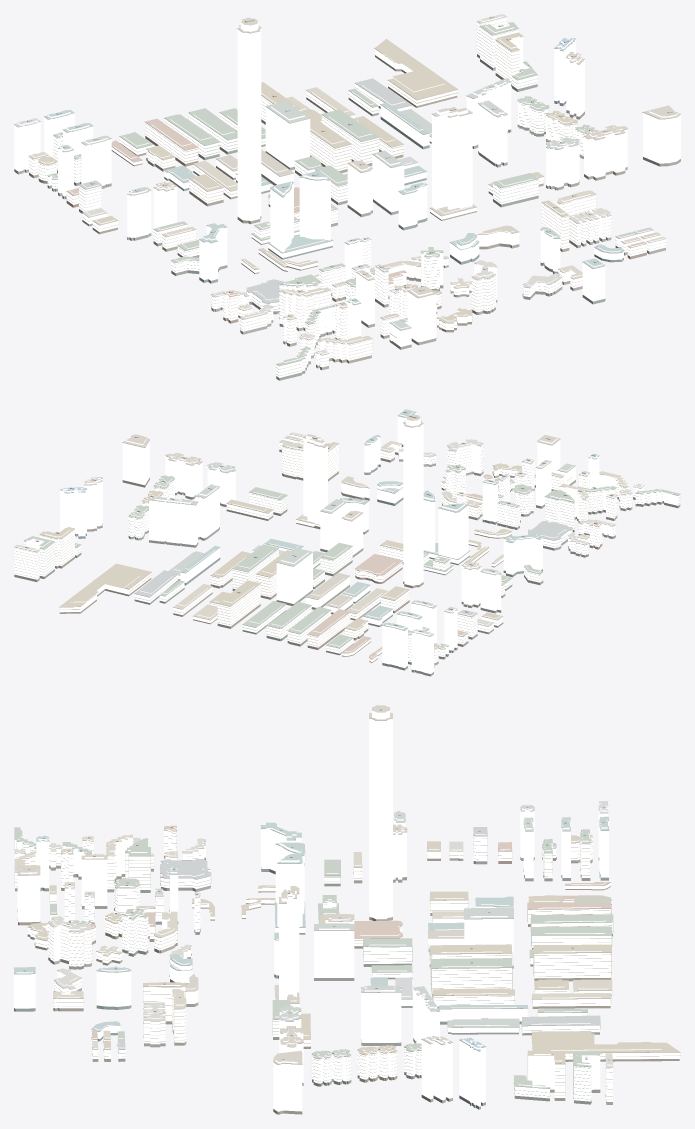
Rendered from buildings-7_2-fine.glb.
3 views of the same model, one above another, from view 1: azimuth 30°, elevation 25°; view 2: azimuth 150°, elevation 25°; view 3: azimuth 270°, elevation 25° (orthographic). The views are drawn at different scales.
Visible parts, largest first — view 1: block_7_2_office, block_7_2_residential, block_7_2_roof, block_7_2_darkglass, block_7_2_concrete, block_7_2_steel; view 2: block_7_2_office, block_7_2_residential, block_7_2_roof, block_7_2_darkglass, block_7_2_concrete, block_7_2_steel; view 3: block_7_2_roof, block_7_2_residential, block_7_2_office, block_7_2_darkglass, block_7_2_concrete, block_7_2_steel.
Part boxes in pixels (x1,y1,x2,y2): block_7_2_office: (14, 20, 680, 346); block_7_2_residential: (29, 16, 665, 377); block_7_2_roof: (14, 14, 680, 377); block_7_2_darkglass: (14, 54, 680, 380); block_7_2_concrete: (29, 16, 664, 375); block_7_2_steel: (14, 28, 680, 337); block_7_2_office: (60, 412, 599, 673); block_7_2_residential: (14, 433, 680, 664); block_7_2_roof: (14, 409, 680, 663); block_7_2_darkglass: (14, 444, 680, 676); block_7_2_concrete: (14, 434, 680, 660); block_7_2_steel: (60, 412, 598, 636); block_7_2_roof: (14, 705, 680, 1100); block_7_2_residential: (14, 827, 679, 1101); block_7_2_office: (14, 711, 608, 1111); block_7_2_darkglass: (14, 855, 679, 1114); block_7_2_concrete: (14, 827, 680, 1099); block_7_2_steel: (14, 718, 608, 1064).
Bounding box in the file's own units: 673 × 243 × 698.
